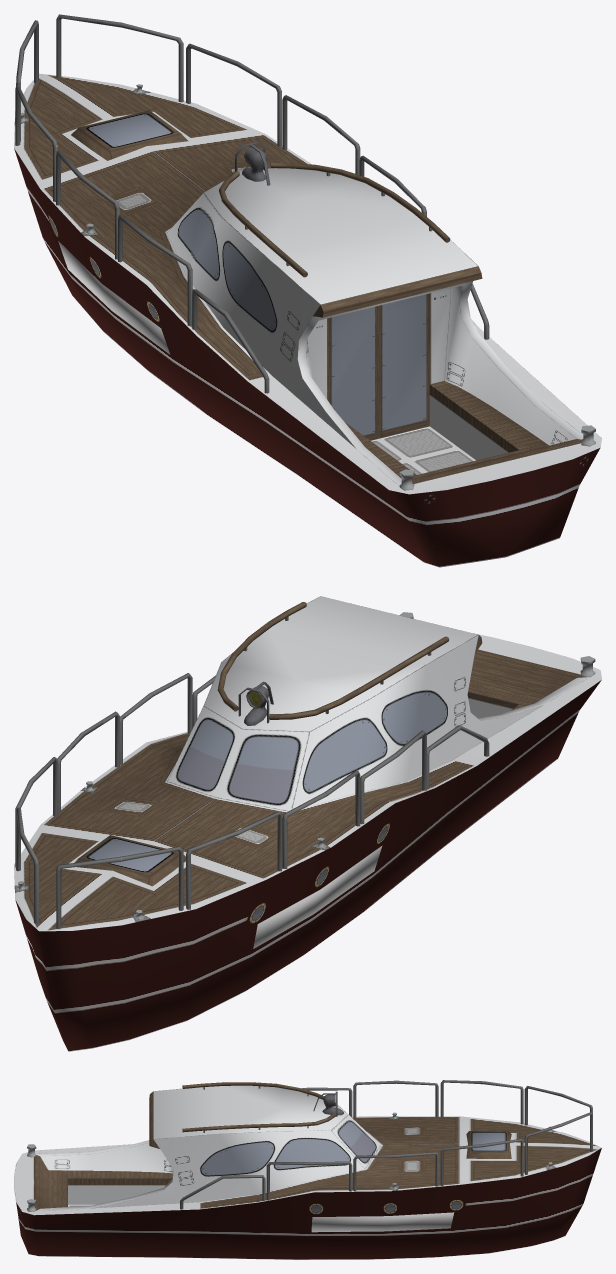
Rendered from BoatMotor.fbx.
3 views of the same model, one above another, from view 1: azimuth 30°, elevation 25°; view 2: azimuth 150°, elevation 25°; view 3: azimuth 270°, elevation 25° (orthographic). The views are drawn at different scales.
Parts seen in each view (by area): view 1: Body, BodyName; view 2: Body, BodyName; view 3: Body, BodyName.
Boxes of the visible parts, bbox=[...] form: Body: bbox=[14, 14, 601, 567]; BodyName: bbox=[58, 241, 170, 354]; Body: bbox=[14, 596, 601, 1051]; BodyName: bbox=[253, 845, 382, 948]; Body: bbox=[14, 1080, 601, 1259]; BodyName: bbox=[311, 1212, 454, 1232].
Size of the model in its own units: 213 by 185 by 696.
